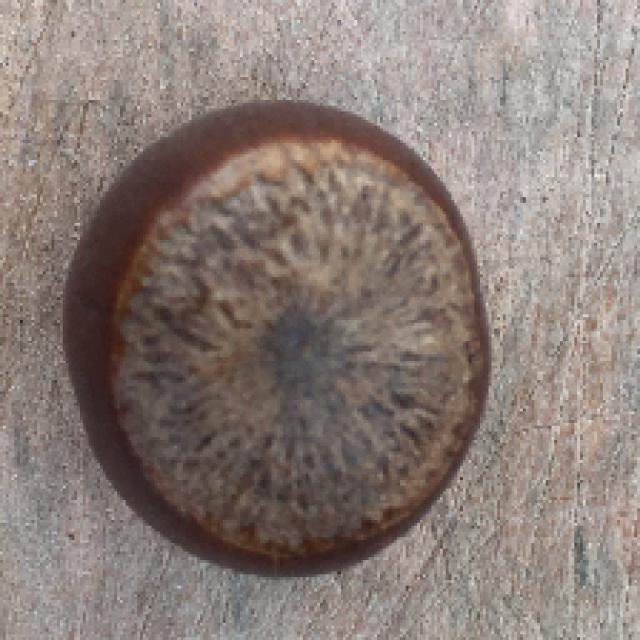qualityHazelnut: (59, 97, 502, 587)
